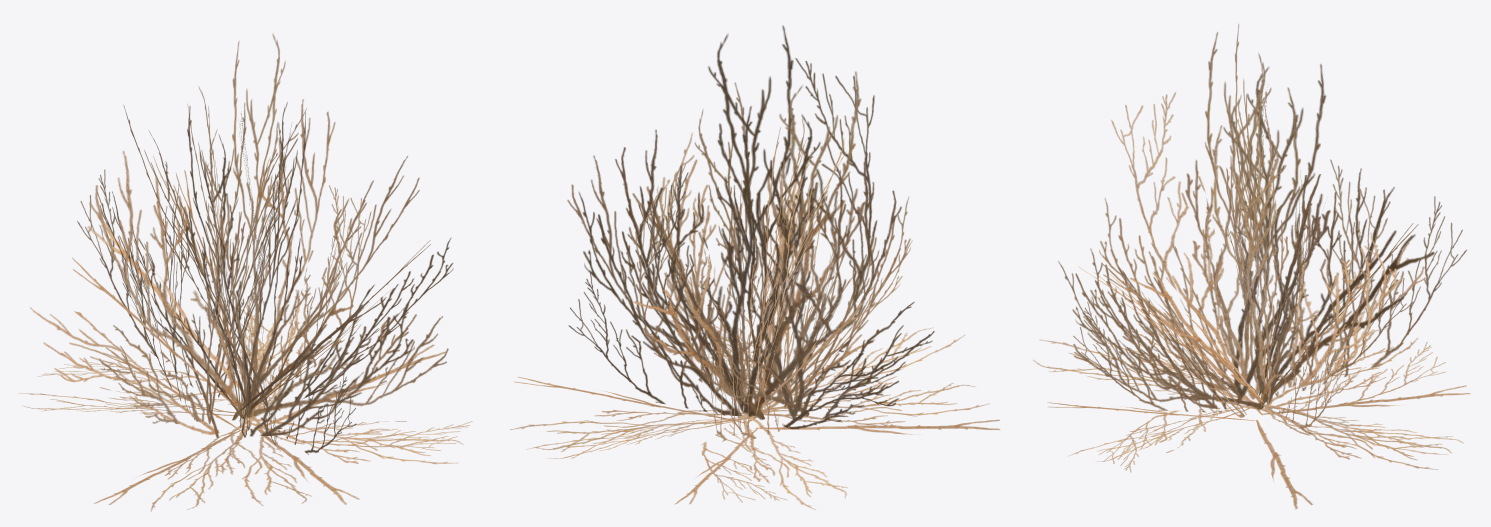
File: grass_dead_a1.glb
3 views of the same model, side by side, from view 1: azimuth 30°, elevation 25°; view 2: azimuth 150°, elevation 25°; view 3: azimuth 270°, elevation 25° (orthographic). The views are drawn at different scales.
Visible parts, largest first — view 1: SM_DeadGrass_A1_LOD3; view 2: SM_DeadGrass_A1_LOD3; view 3: SM_DeadGrass_A1_LOD3.
Boxes of the visible parts, x1=… form: SM_DeadGrass_A1_LOD3: x1=19, y1=33, x2=472, y2=511; SM_DeadGrass_A1_LOD3: x1=510, y1=25, x2=1000, y2=509; SM_DeadGrass_A1_LOD3: x1=1033, y1=24, x2=1470, y2=509.
Bounding box in the file's own units: 0.6361 × 0.6 × 0.5961.
1 material, 1 textured.
